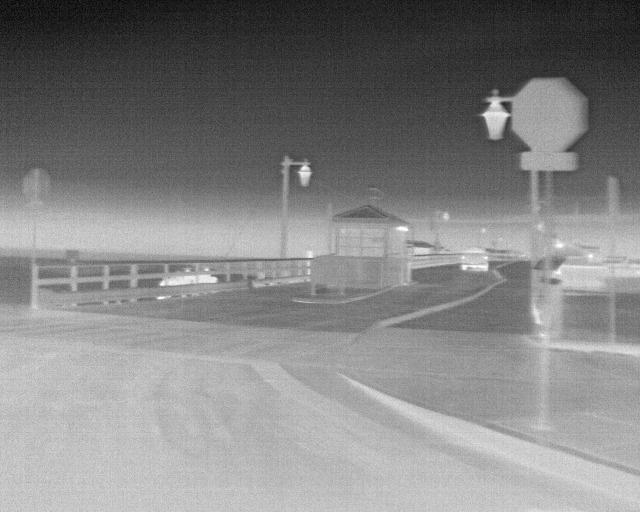car: (460, 242, 491, 274)
